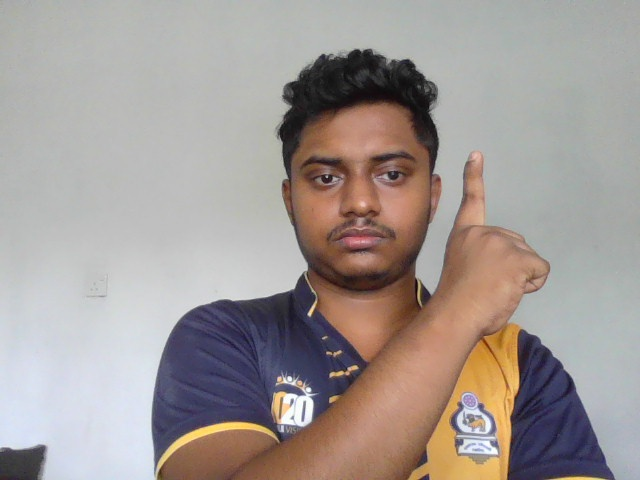Me: (443, 151, 552, 334)
